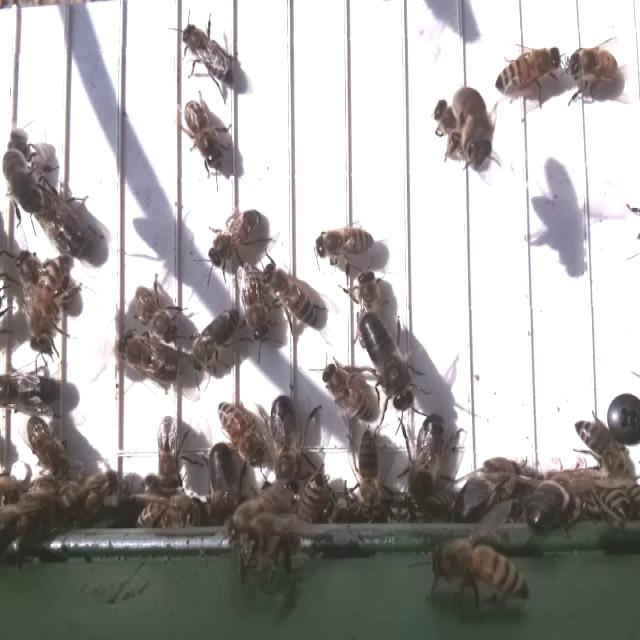Drone: (357, 307, 416, 413), (32, 188, 98, 263), (405, 410, 448, 512), (116, 333, 187, 391), (269, 390, 302, 498)
Worker: (29, 255, 75, 356), (493, 44, 563, 99), (318, 359, 377, 422), (187, 309, 242, 376), (205, 207, 261, 271), (179, 21, 234, 86), (181, 91, 225, 172), (26, 412, 76, 483), (269, 264, 321, 330), (573, 419, 626, 483), (217, 397, 264, 468), (564, 46, 623, 95), (353, 424, 385, 512), (312, 222, 375, 266), (241, 262, 273, 347), (133, 290, 184, 343), (153, 411, 186, 488)
